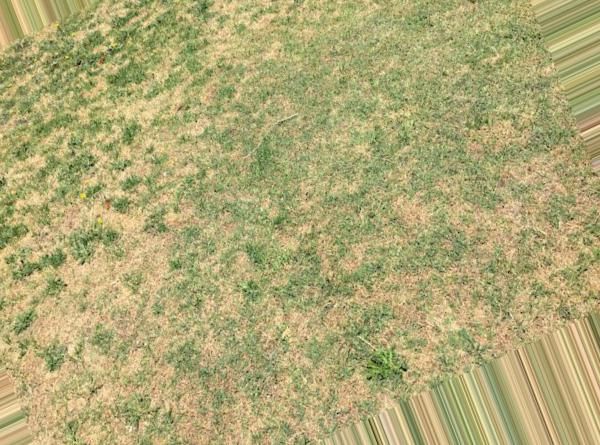patch: (162, 341, 318, 445), (53, 254, 168, 370), (325, 232, 451, 318), (114, 117, 214, 213), (465, 200, 548, 293)
